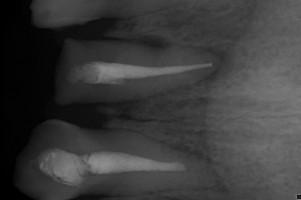Furcation Involvement: (205, 45, 237, 79)
